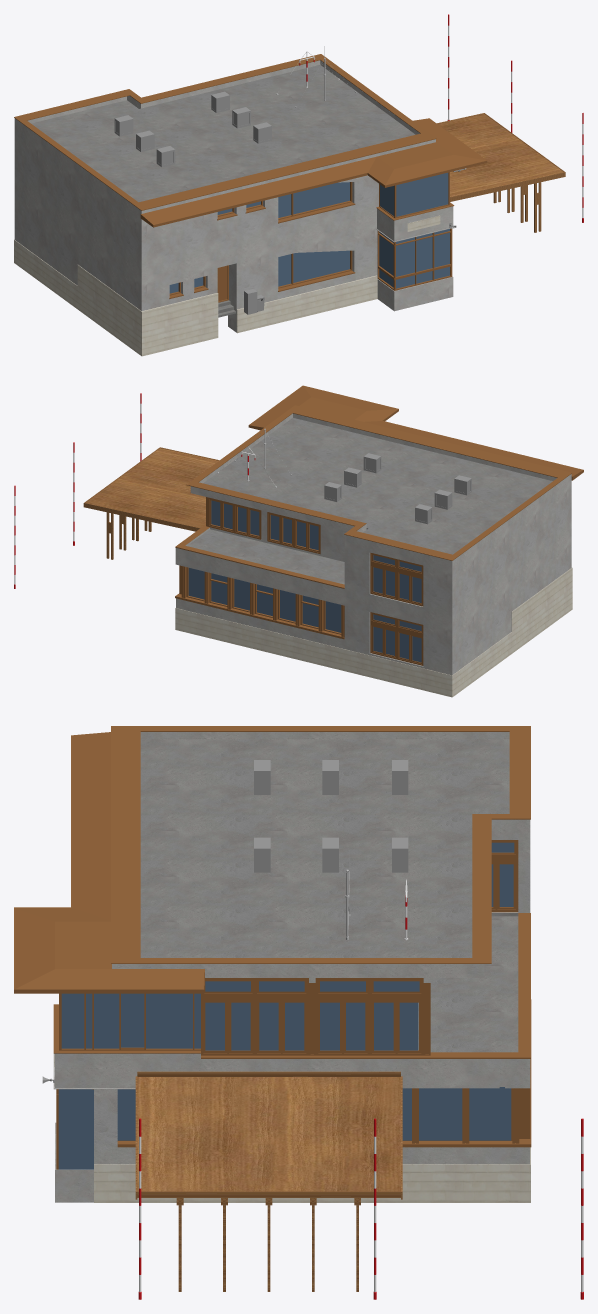
File: term-s.glb
3 renders of one model, top to bottom at view 1: azimuth 30°, elevation 25°; view 2: azimuth 150°, elevation 25°; view 3: azimuth 270°, elevation 25°, orthographic. The views are drawn at different scales.
Parts seen in each view (by area): view 1: Walls01, Floors01, Object003_stone 2 nesura 600x600x180_0, Object002_wood_0, Rectangle02, sunshade01, Window_glass01, Window_glass02, Window_frames01, Rectangle01, Window_frames02, Box704; view 2: Walls01, Floors01, Object003_stone 2 nesura 600x600x180_0, sunshade01, Object002_wood_0, Window_glass01, Window_frames01, Rectangle02, Window_frames02, Window_glass02, Rectangle01; view 3: Floors01, sunshade01, Window_glass01, Walls01, Object002_wood_0, Rectangle02, Window_frames01, Object003_stone 2 nesura 600x600x180_0, Rectangle01, Window_frames02, Window_glass02.
Boxes of the visible parts, x1,y1,x2,y2 form: Walls01: (14, 60, 453, 332); Floors01: (31, 65, 415, 202); Object003_stone 2 nesura 600x600x180_0: (14, 215, 440, 356); Object002_wood_0: (14, 54, 454, 298); Rectangle02: (142, 119, 485, 224); sunshade01: (437, 113, 565, 232); Window_glass01: (379, 172, 449, 288); Window_glass02: (169, 182, 349, 293); Window_frames01: (377, 172, 452, 290); Rectangle01: (140, 118, 487, 227); Window_frames02: (169, 182, 352, 295); Box704: (244, 289, 264, 314); Walls01: (175, 413, 571, 675); Floors01: (187, 418, 552, 584); Object003_stone 2 nesura 600x600x180_0: (175, 567, 572, 697); sunshade01: (83, 447, 219, 559); Object002_wood_0: (175, 405, 571, 588); Window_glass01: (188, 500, 341, 632); Window_frames01: (175, 497, 344, 639); Rectangle02: (250, 386, 582, 475); Window_frames02: (370, 552, 423, 665); Window_glass02: (373, 555, 421, 662); Rectangle01: (248, 385, 583, 480); Floors01: (140, 739, 518, 1052); sunshade01: (135, 1071, 402, 1291); Window_glass01: (58, 981, 511, 1169); Walls01: (53, 732, 530, 1202); Object002_wood_0: (53, 726, 530, 1058); Rectangle02: (15, 732, 202, 988); Window_frames01: (56, 978, 531, 1169); Object003_stone 2 nesura 600x600x180_0: (54, 1053, 530, 1202); Rectangle01: (14, 732, 204, 993); Window_frames02: (491, 840, 518, 912); Window_glass02: (491, 842, 514, 906).
Bounding box in the file's own units: 23.79 × 9.82 × 15.8.
9 materials, 9 textured.
